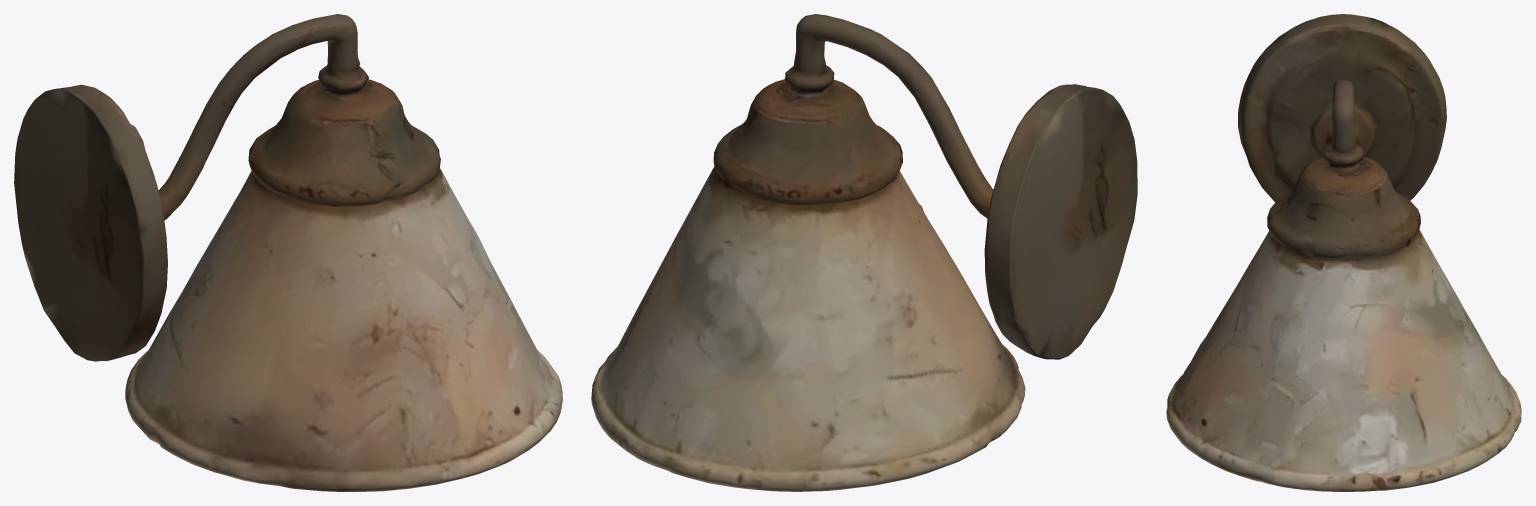
File: de_walllamp.glb
3 views of the same model, side by side, from view 1: azimuth 30°, elevation 25°; view 2: azimuth 150°, elevation 25°; view 3: azimuth 270°, elevation 25° (orthographic). The views are drawn at different scales.
Parts seen in each view (by area): view 1: tripo_node_097e062b-8f12-437b-bb8d-eb57233f05a7; view 2: tripo_node_097e062b-8f12-437b-bb8d-eb57233f05a7; view 3: tripo_node_097e062b-8f12-437b-bb8d-eb57233f05a7.
Boxes of the visible parts, <box> form: tripo_node_097e062b-8f12-437b-bb8d-eb57233f05a7: <box>14,14,562,491</box>; tripo_node_097e062b-8f12-437b-bb8d-eb57233f05a7: <box>591,14,1137,491</box>; tripo_node_097e062b-8f12-437b-bb8d-eb57233f05a7: <box>1166,14,1521,491</box>.
Bounding box in the file's own units: 1 × 0.8715 × 0.8373.
1 material, 1 textured.
